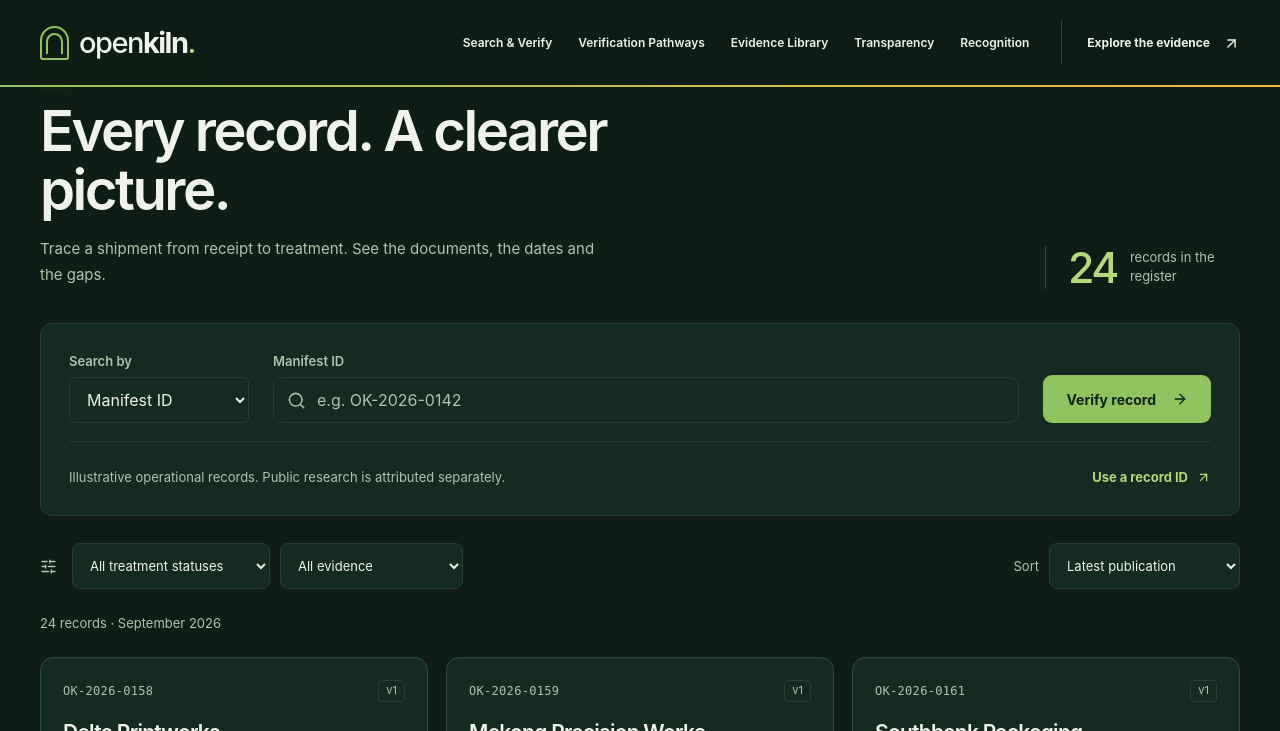
Open Kiln visitor journeys › keeps processing dates absent and retains publication revisions
(page scrolled)
In the field labelled "Manifest ID": (646, 400) [273,377,1020,423], type "OK-2026-0143"
Click the button "Verify record": (1127, 399) [1044,375,1211,423]
(page scrolled)
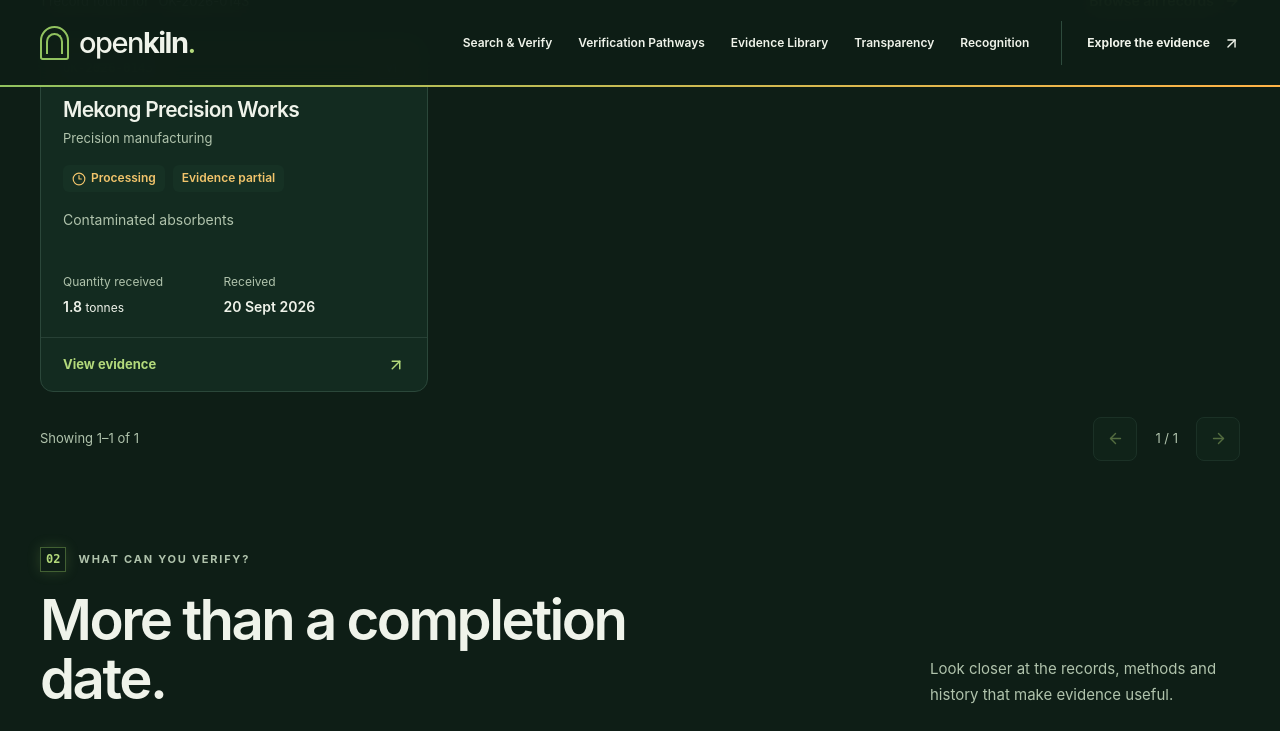
Click the button named "View evidence for": (110, 365) [41,338,427,392]
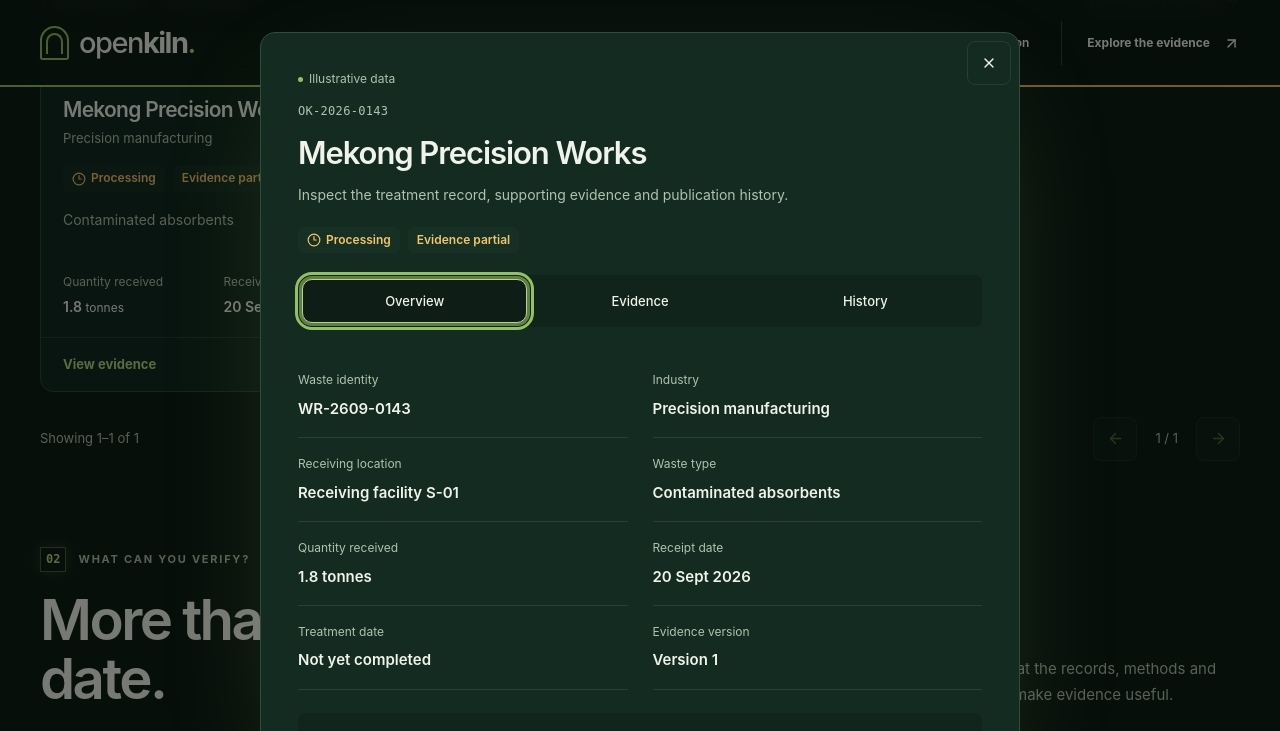
Now the text "Not yet completed" is shown, box [298,650,431,669]
Click the button named "Close": (989, 63) [967,41,1011,85]
(page scrolled)
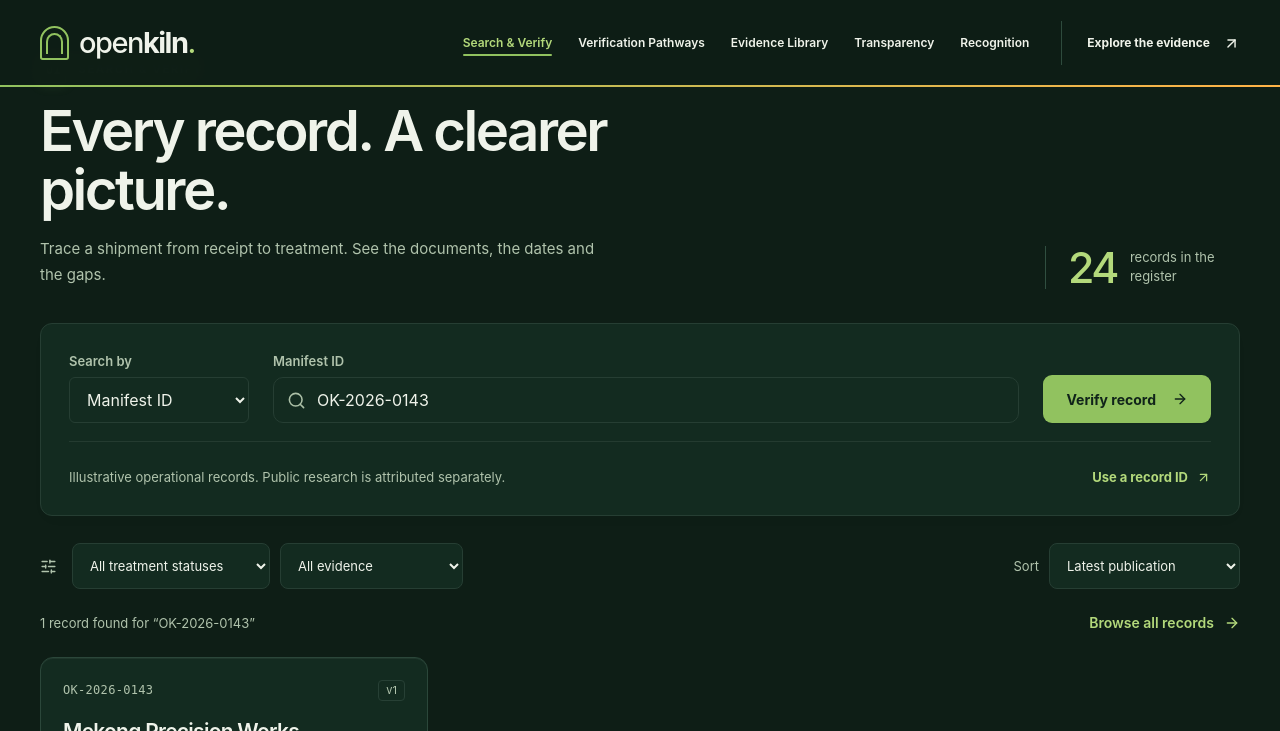
Replace the text in the field labelled "Manifest ID" with "OK-2026-0145": (646, 400) [273,377,1020,423]
Click the button "Verify record": (1127, 399) [1044,375,1211,423]
(page scrolled)
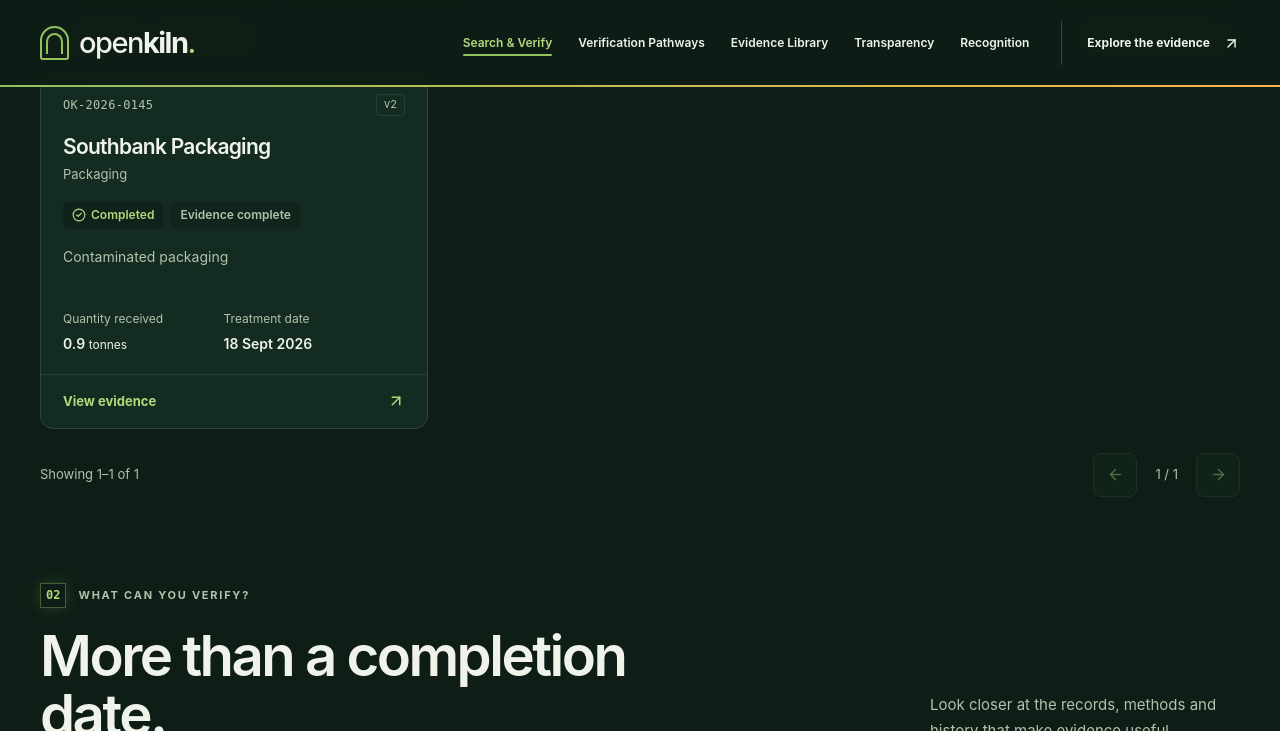
Click the button named "View evidence for": (110, 401) [41,374,427,428]
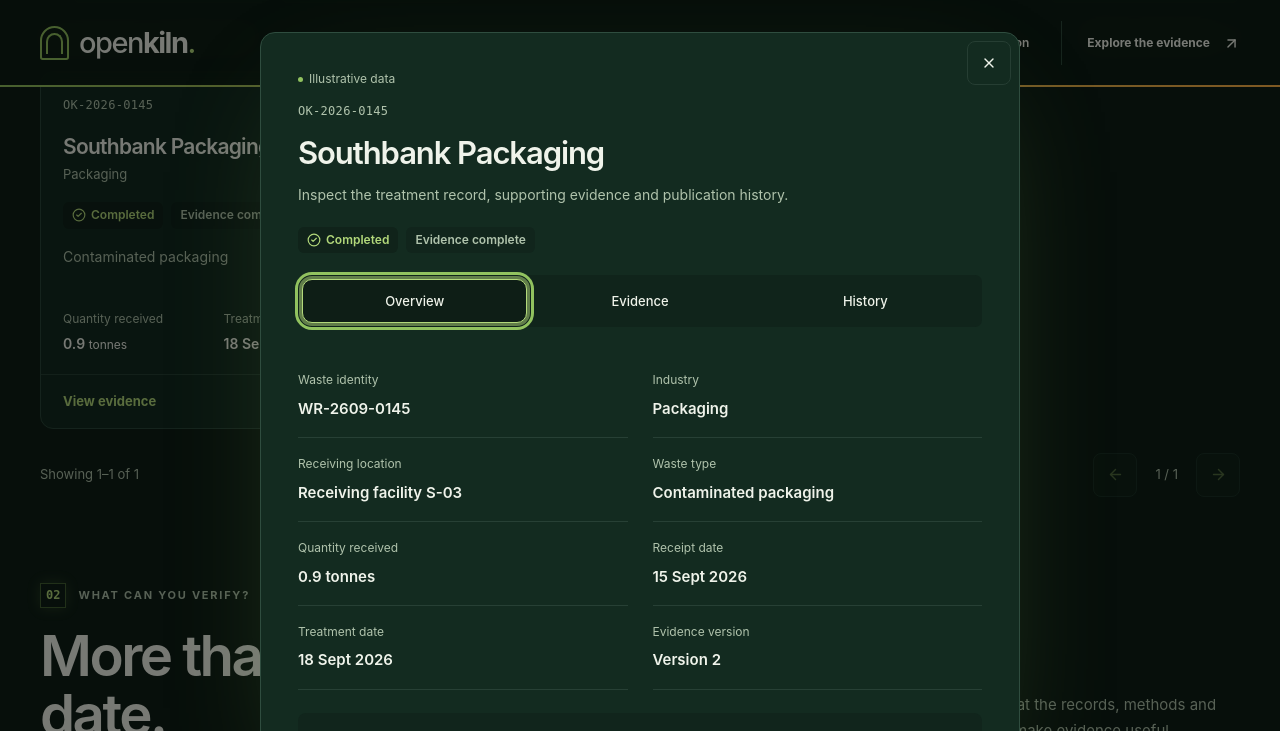
Focus the tab "History": (865, 301) [753,279,978,323]
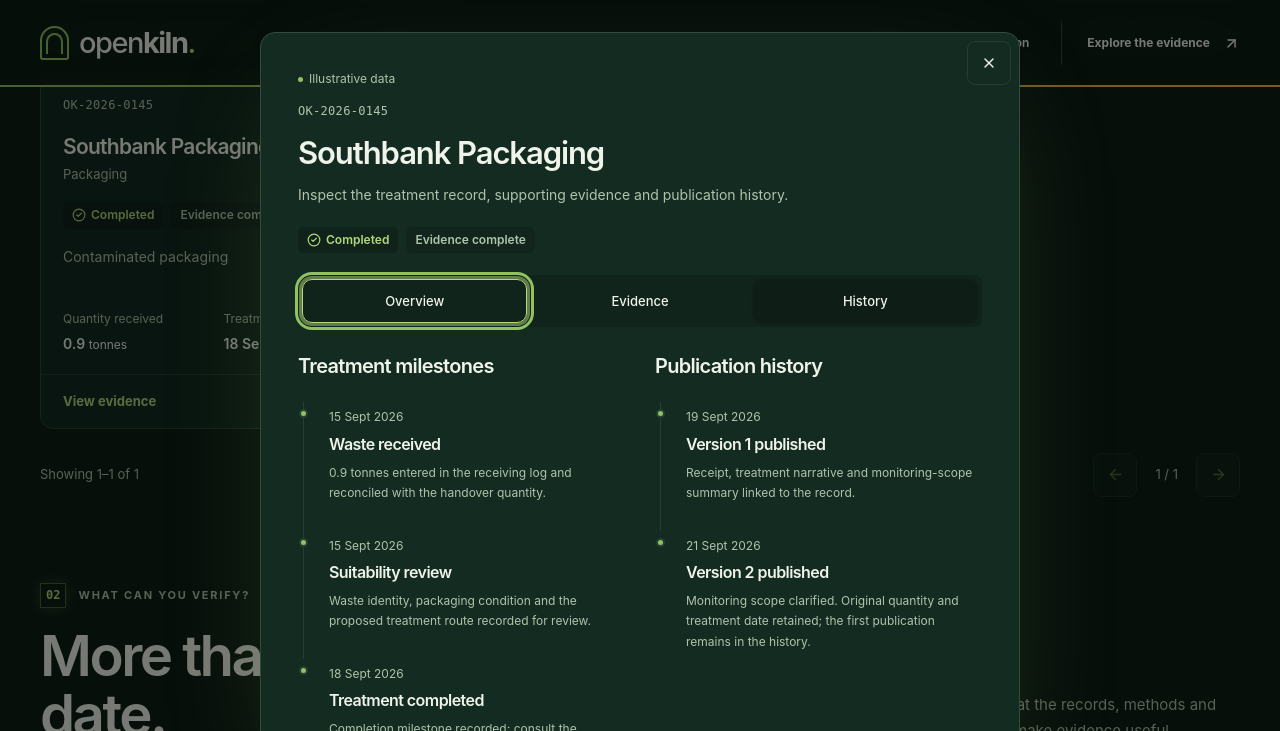
Now the heading "Version 2 published" is shown, box [686,562,829,582]
Now the heading "Version 1 published" is shown, box [686,434,825,454]
